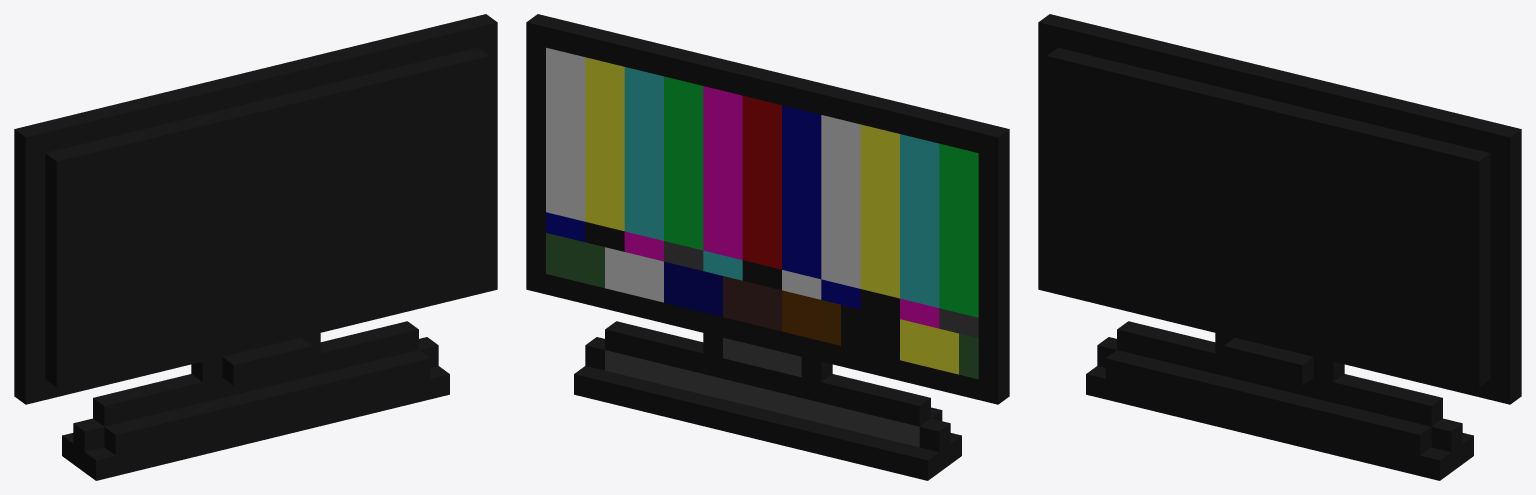
File: Tele.obj
3 views of the same model, side by side, from view 1: azimuth 30°, elevation 25°; view 2: azimuth 150°, elevation 25°; view 3: azimuth 330°, elevation 25° (orthographic).
Size of the model in its own units: 2.4 by 1.7 by 0.3.
Materials: 1 (1 with a texture image).
